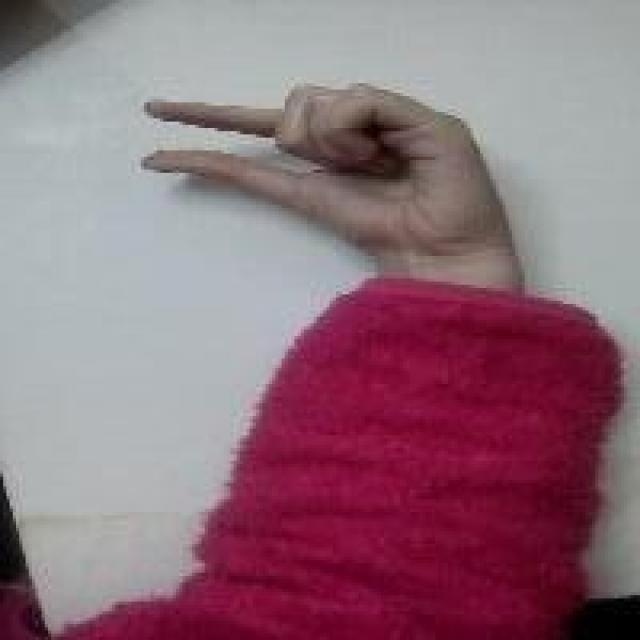G: (142, 83, 536, 256)
